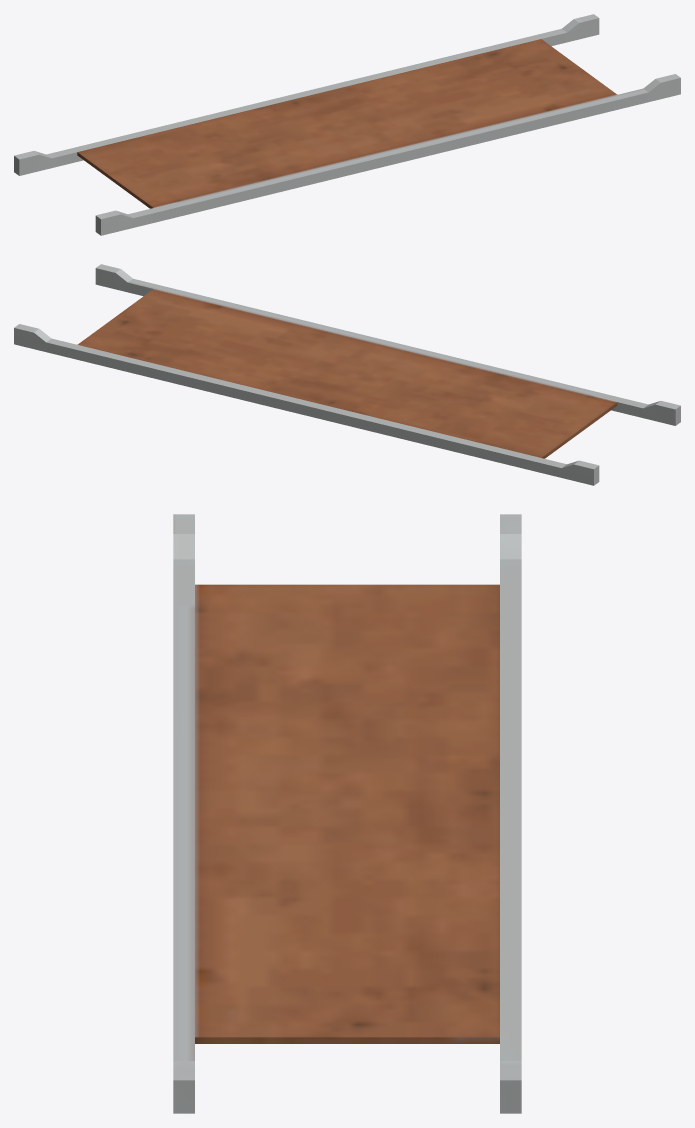
The model's file is objects_un_base_scaffold01.gltf.
The picture shows the model from 3 angles, top to bottom: view 1: azimuth 30°, elevation 25°; view 2: azimuth 150°, elevation 25°; view 3: azimuth 270°, elevation 25°; orthographic projection. The views are drawn at different scales.
Visible parts, largest first — view 1: objects_un_base_scaffold01_01_mesh_shape:objects_un_base_sca; view 2: objects_un_base_scaffold01_01_mesh_shape:objects_un_base_sca; view 3: objects_un_base_scaffold01_01_mesh_shape:objects_un_base_sca.
Part boxes in pixels (left/top/right/bottom): objects_un_base_scaffold01_01_mesh_shape:objects_un_base_sca: left=14, top=14, right=680, bottom=235; objects_un_base_scaffold01_01_mesh_shape:objects_un_base_sca: left=14, top=264, right=680, bottom=485; objects_un_base_scaffold01_01_mesh_shape:objects_un_base_sca: left=173, top=514, right=521, bottom=1113.
Bounding box in the file's own units: 18 × 0.49 × 4.68.
Materials: 1 (1 with a texture image).
